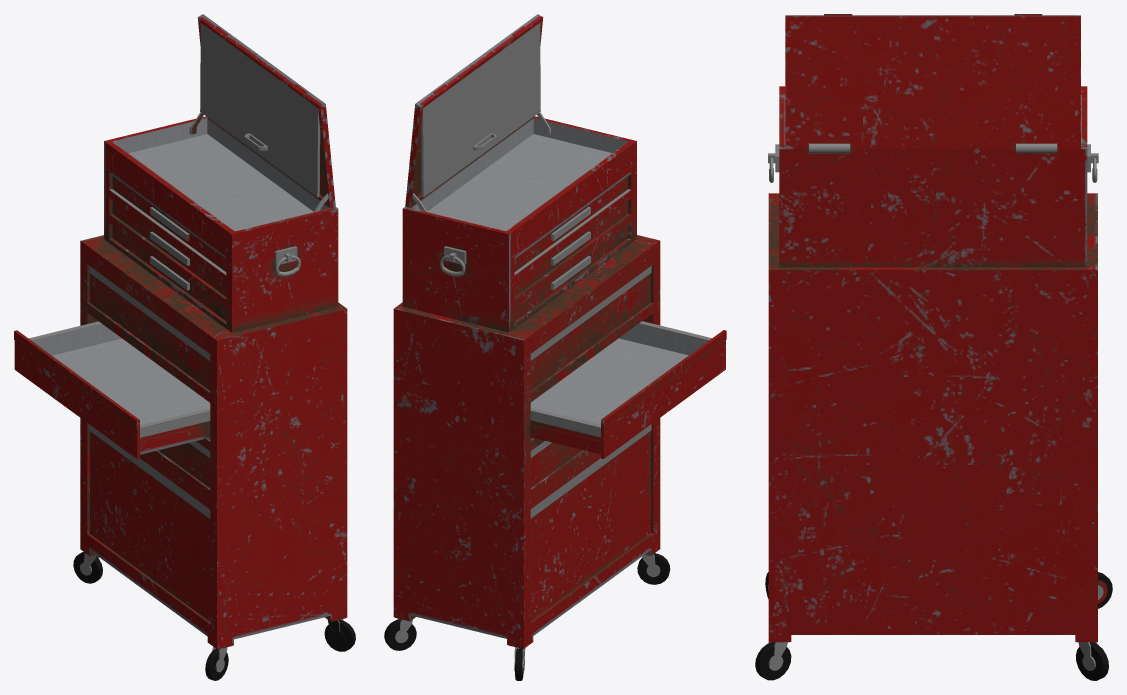
The model's file is CR_UtilityBox2.fbx.
3 renders of one model, left to right at view 1: azimuth 30°, elevation 25°; view 2: azimuth 150°, elevation 25°; view 3: azimuth 270°, elevation 25°, orthographic. The views are drawn at different scales.
Visible parts, largest first — view 1: UtilityBox2; view 2: UtilityBox2; view 3: UtilityBox2.
Part boxes in pixels (bbox=[...]): UtilityBox2: bbox=[14, 14, 355, 680]; UtilityBox2: bbox=[384, 14, 726, 680]; UtilityBox2: bbox=[755, 14, 1112, 680].
Size of the model in its own units: 66.43 by 165 by 81.19.
